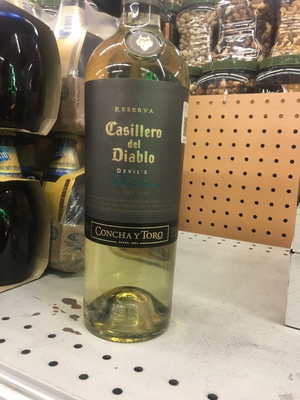casillero del diablo devils collection verde: (71, 9, 185, 337)
